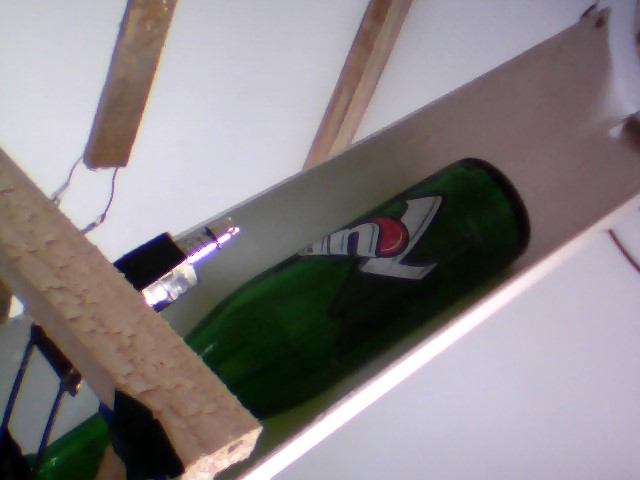vidrio: (175, 147, 540, 420)
